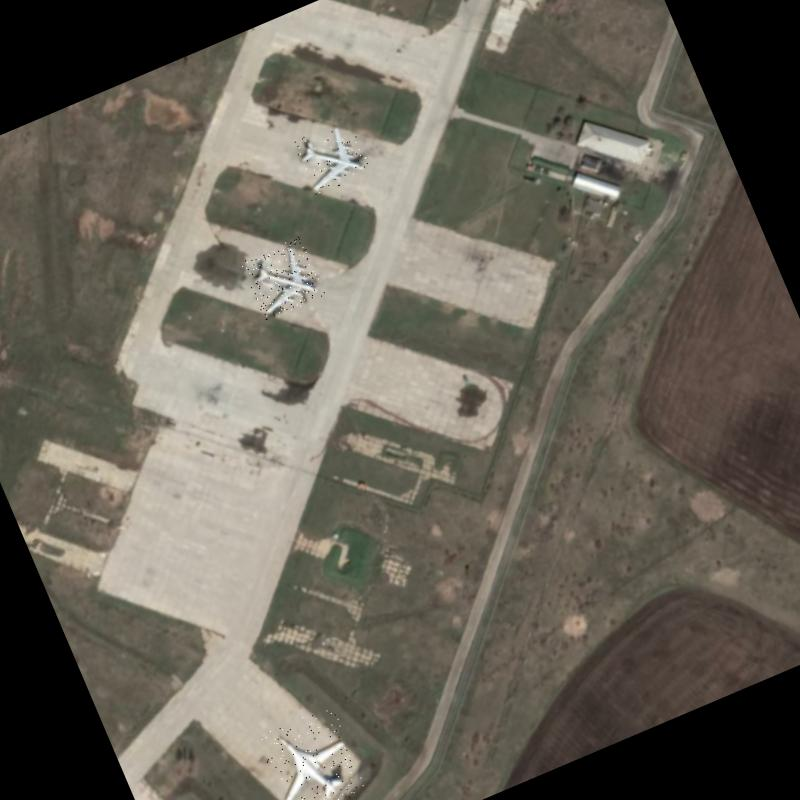A17: (240, 236, 326, 322), (292, 117, 372, 196)
A6: (256, 704, 368, 800)
